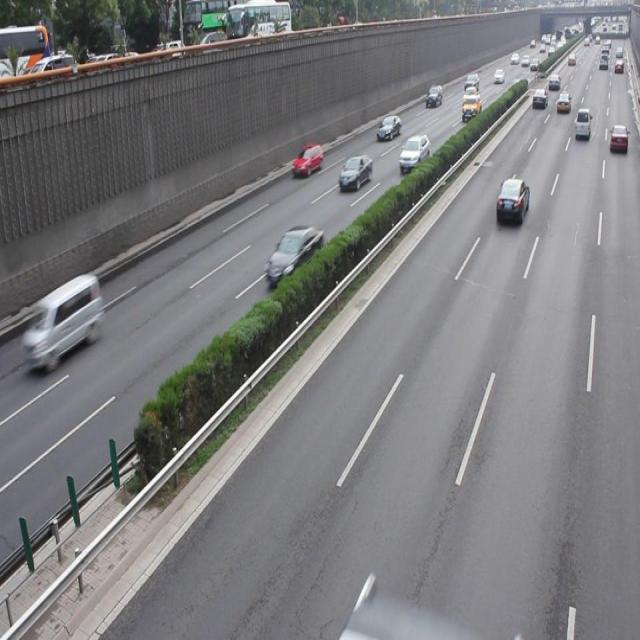car: (265, 224, 324, 284), (495, 176, 528, 223), (397, 133, 429, 174), (338, 153, 372, 191), (292, 142, 323, 178)
truck: (30, 274, 104, 371)
